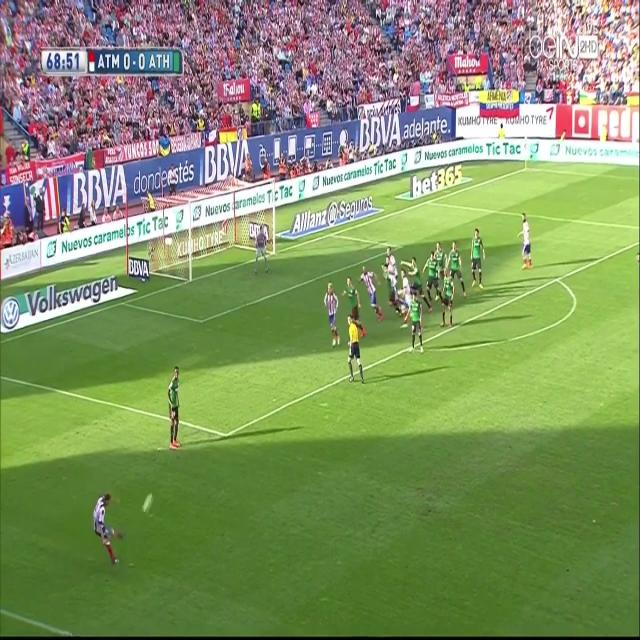Ball: (139, 489, 157, 518)
Goalkeeper: (253, 223, 273, 273)
Player: (90, 489, 130, 569), (402, 256, 433, 311), (166, 366, 183, 454), (446, 240, 469, 301), (361, 262, 384, 322), (469, 228, 489, 295), (405, 290, 424, 359), (323, 282, 341, 352), (518, 213, 536, 273), (423, 249, 442, 305), (384, 255, 402, 309), (342, 274, 362, 319), (441, 267, 454, 331), (434, 239, 447, 273)
Referee: (344, 313, 366, 385)
